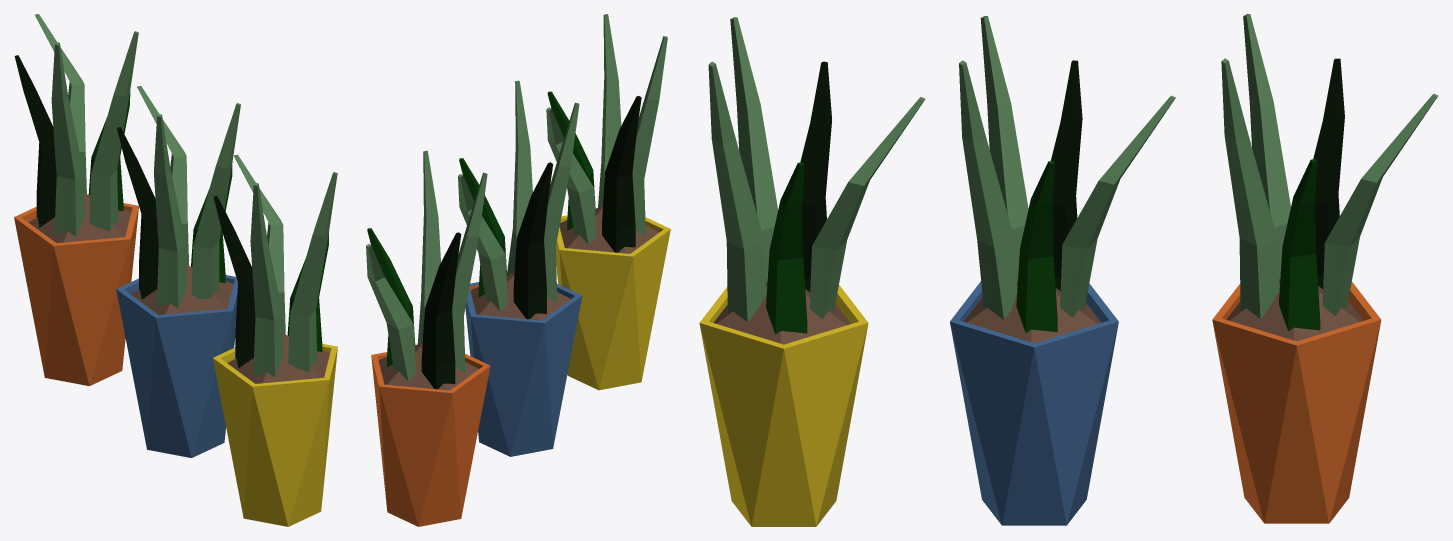
Rendered from flowers.fbx.
The picture shows the model from 3 angles, left to right: view 1: azimuth 30°, elevation 25°; view 2: azimuth 150°, elevation 25°; view 3: azimuth 270°, elevation 25°; orthographic projection. The views are drawn at different scales.
Visible parts, largest first — view 1: flower.002, flower.017, flower.001; view 2: flower.017, flower.001, flower.002; view 3: flower.017, flower.002, flower.001.
Part boxes in pixels (x1,y1,x2,y2): flower.002: (213,154,337,526); flower.017: (14,14,138,386); flower.001: (116,86,240,457); flower.017: (366,150,490,526); flower.001: (458,80,582,456); flower.002: (546,14,670,390); flower.017: (1212,14,1438,523); flower.002: (699,17,925,526); flower.001: (950,16,1175,525).
Bounding box in the file's own units: 59.76 × 178 × 254.
